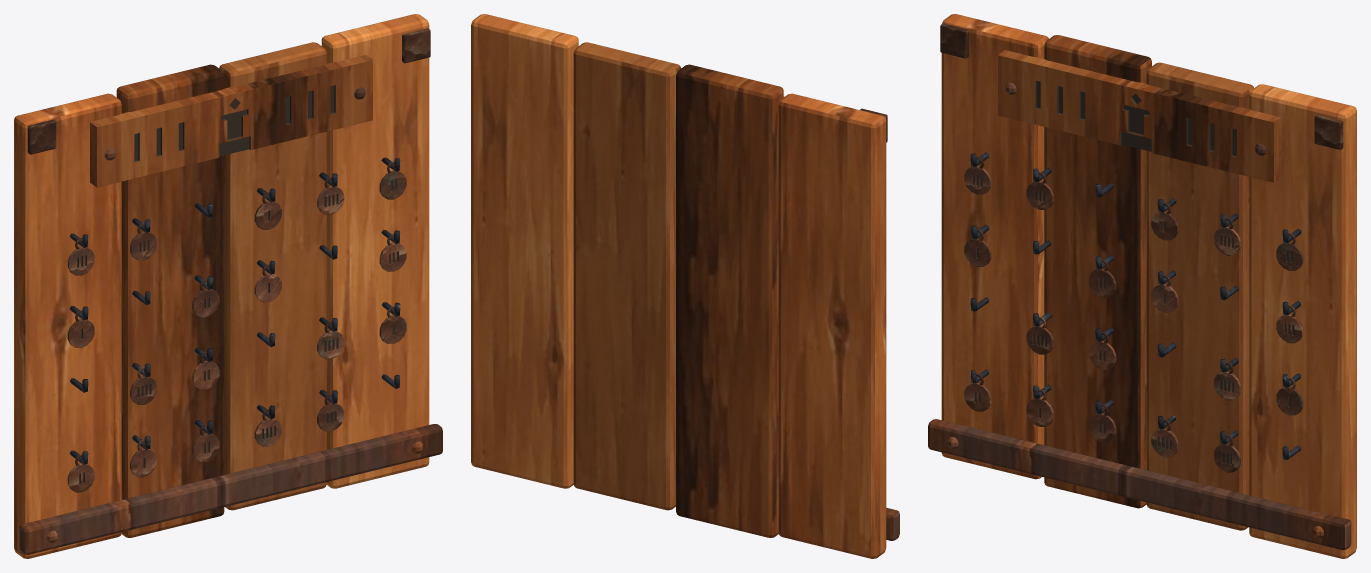
File: lw_lamp_token_board.glb
3 views of the same model, side by side, from view 1: azimuth 30°, elevation 25°; view 2: azimuth 150°, elevation 25°; view 3: azimuth 330°, elevation 25° (orthographic).
Visible parts, largest first — view 1: model; view 2: model; view 3: model.
Part boxes in pixels (x1=…): model: x1=14, y1=14, x2=442, y2=558; model: x1=471, y1=14, x2=899, y2=558; model: x1=928, y1=14, x2=1356, y2=558.
Bounding box in the file's own units: 0.94 × 0.9587 × 0.1073.
10 materials, 9 textured.
